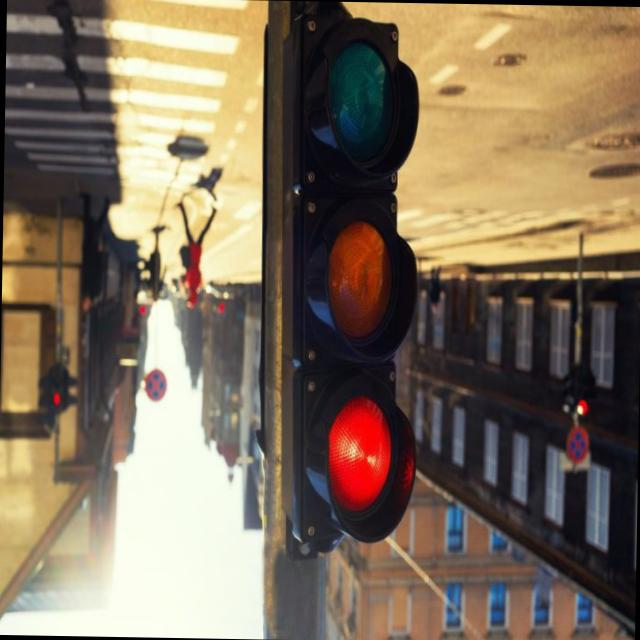red-lights: (326, 398, 392, 516)
